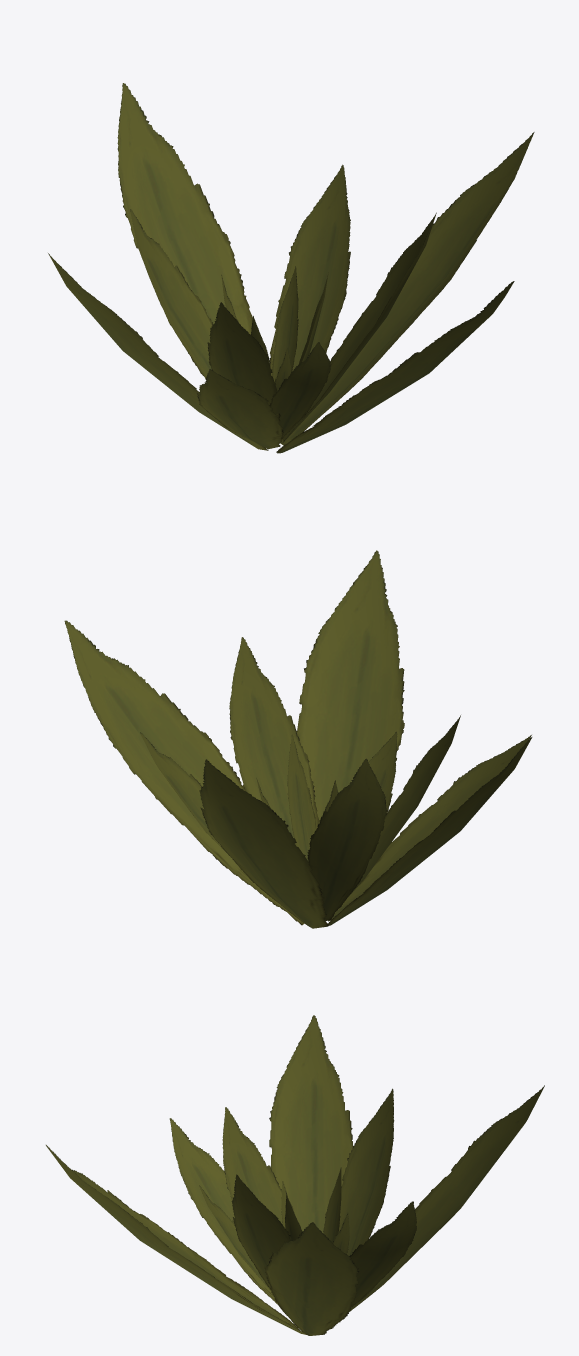
The model's file is LeafShrub_2.fbx.
3 renders of one model, top to bottom at view 1: azimuth 30°, elevation 25°; view 2: azimuth 150°, elevation 25°; view 3: azimuth 270°, elevation 25°, orthographic. The views are drawn at different scales.
Visible parts, largest first — view 1: pPlane140; view 2: pPlane140; view 3: pPlane140.
Part boxes in pixels (left/top/right/bottom): pPlane140: left=48, top=83, right=534, bottom=453; pPlane140: left=64, top=550, right=532, bottom=928; pPlane140: left=46, top=1015, right=544, bottom=1335.
Size of the model in its own units: 1.05 by 0.6185 by 1.07.
